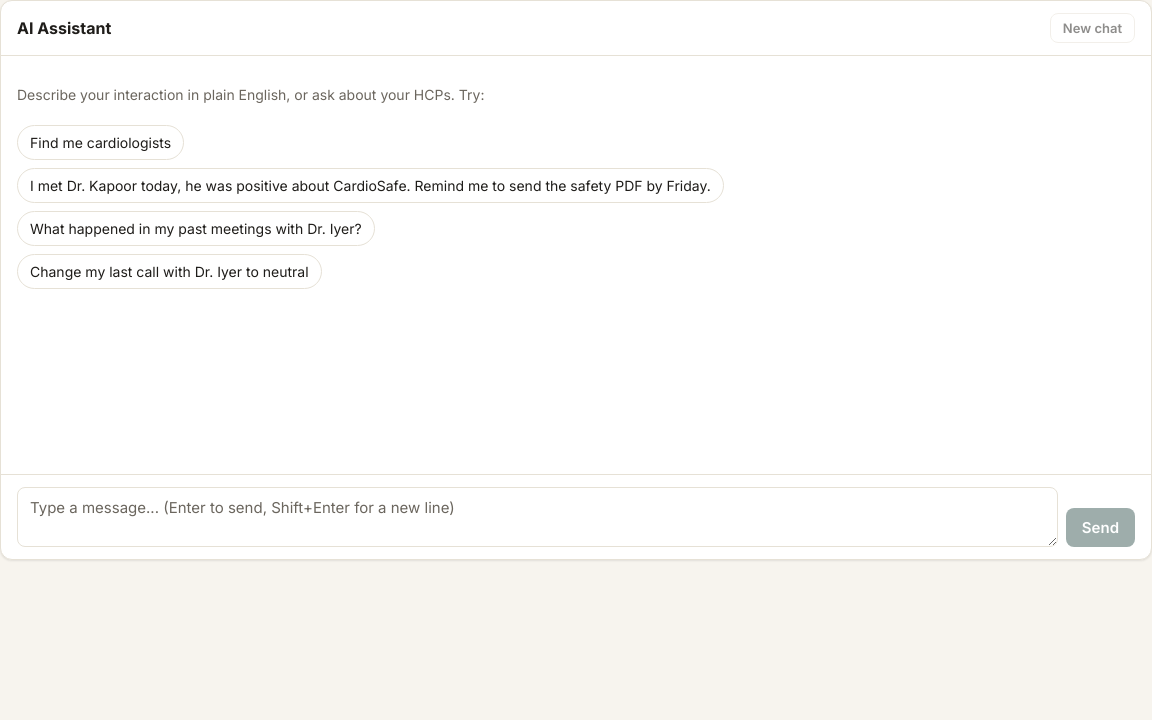
Test case: ChatPanel › shows the user message, the reply and a result card
Type "I met Dr. Test" into the text box with placeholder "Type a message" at (537,517), box x1=17 y1=487 x2=1058 y2=547
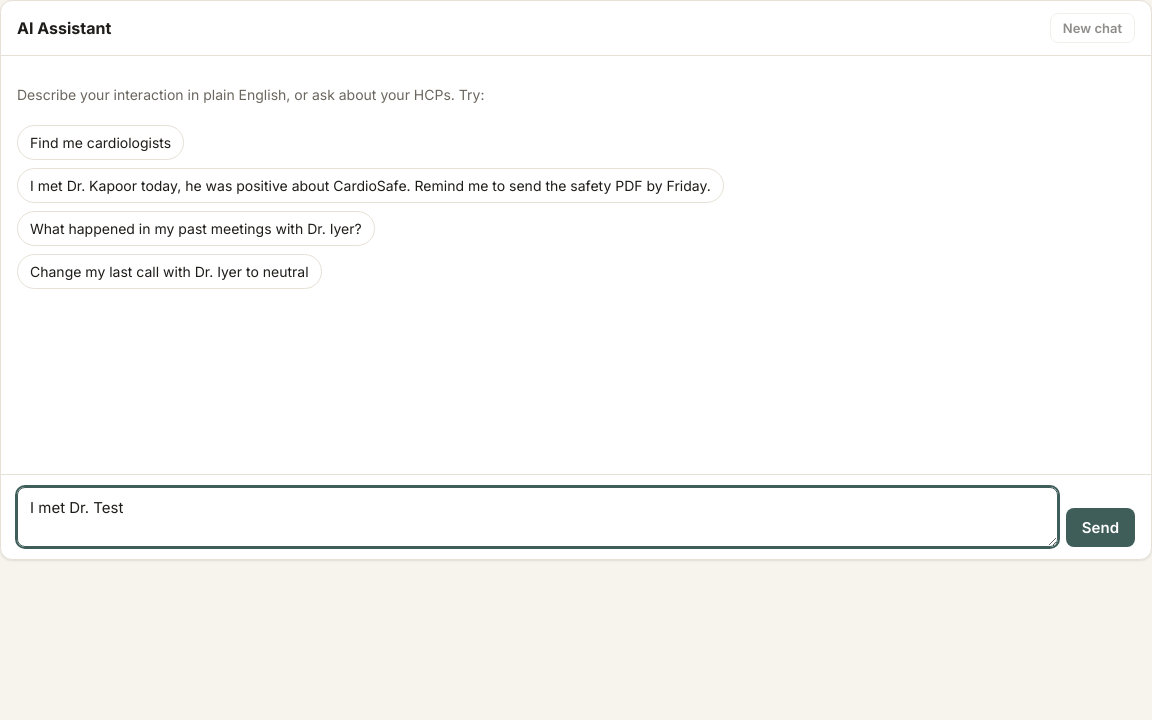
Click the button "Send" at (1100,528), box x1=1066 y1=508 x2=1135 y2=547
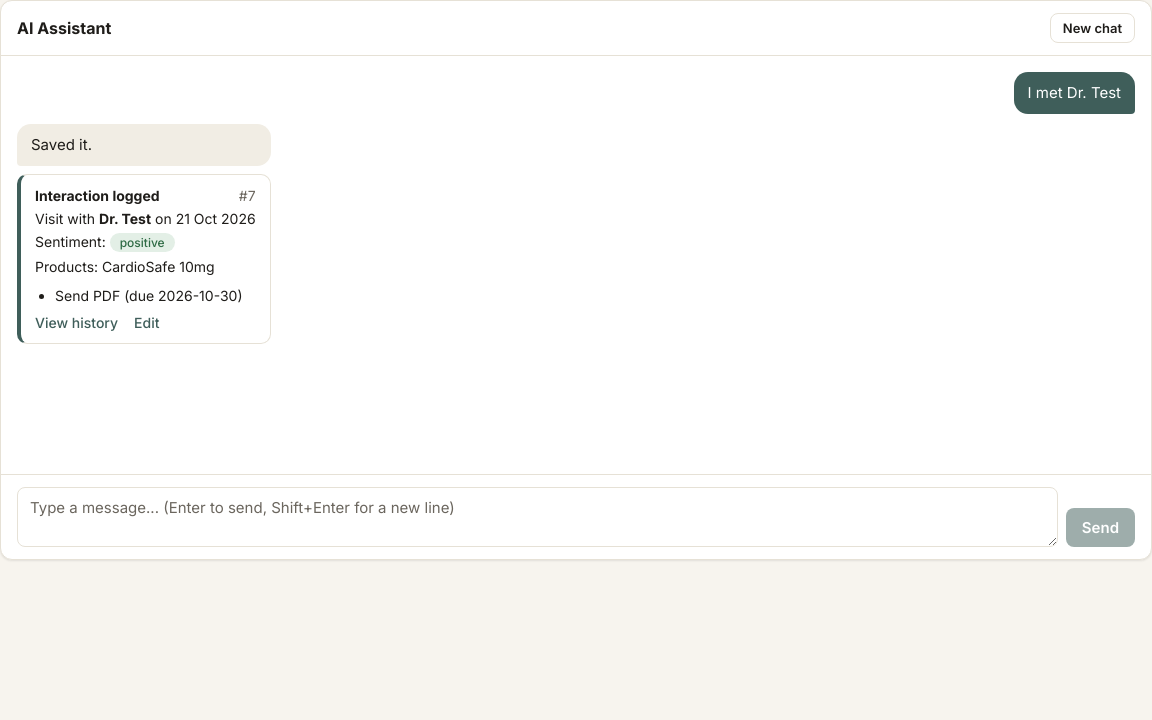
Expected: the text "Saved it." is shown, x1=17 y1=124 x2=271 y2=166
Expected: the text "I met Dr. Test" is shown, x1=1014 y1=72 x2=1135 y2=114
Expected: the text "Interaction logged" is shown, x1=35 y1=186 x2=160 y2=204
